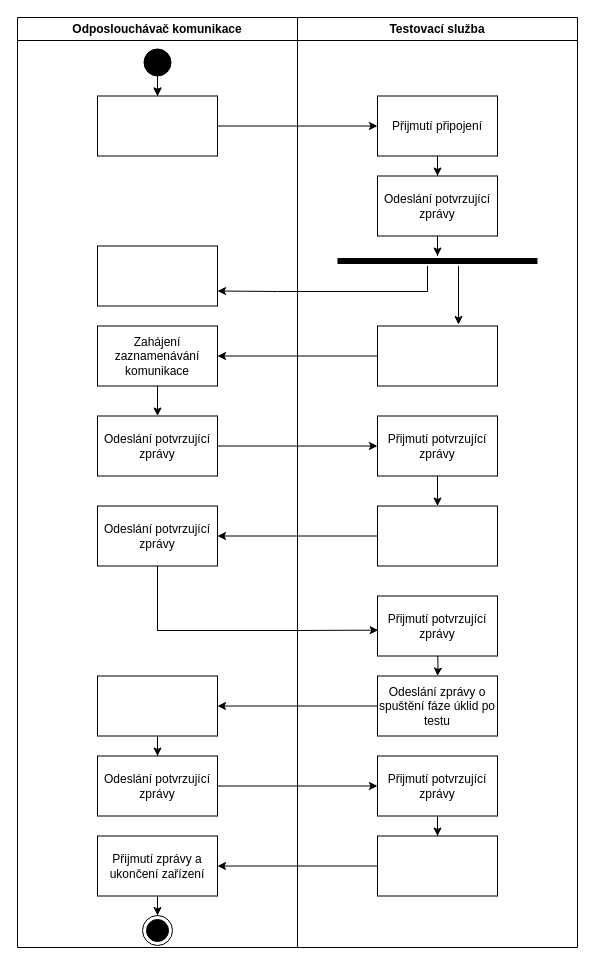
This 595x965 diagram has some shape labels left out. Here are the shapes that lost their labels. From the top down, the centre of each, then its label:
At point (157, 125): "Připojení k testovací službě".
At point (157, 275): "Přijmutí potvrzující zprávy a vyčkání na další instrukce".
At point (437, 355): "Odeslání zprávy o spuštění fáze přípravy na test".
At point (437, 535): "Odeslání zprávy o spuštění fáze testování".
At point (157, 705): "Zastavení zaznamenávání komunikace".
At point (437, 865): "Odeslání zprávy o ukončení zařízení".
